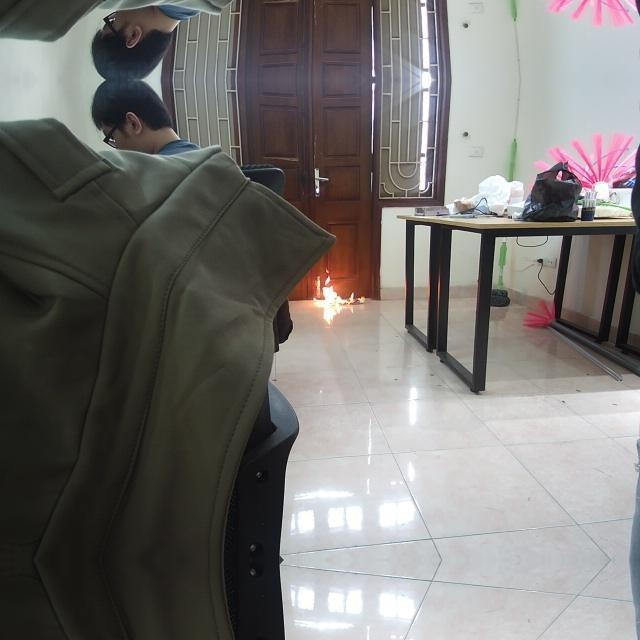fire: (302, 261, 366, 338)
